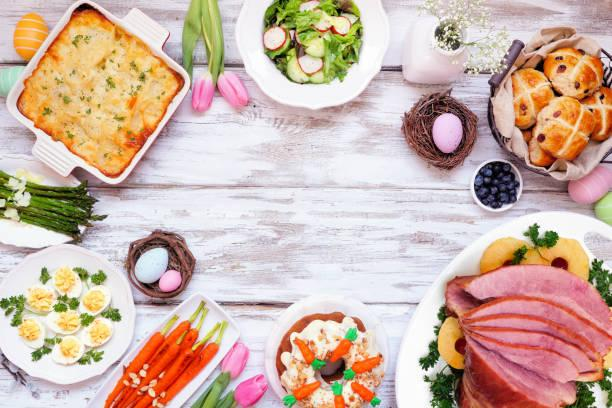Braised Crucian Carp: (393, 212, 612, 406), (5, 1, 188, 185), (0, 245, 134, 382), (84, 290, 239, 408), (234, 1, 389, 113), (487, 39, 608, 181), (261, 293, 389, 406)
